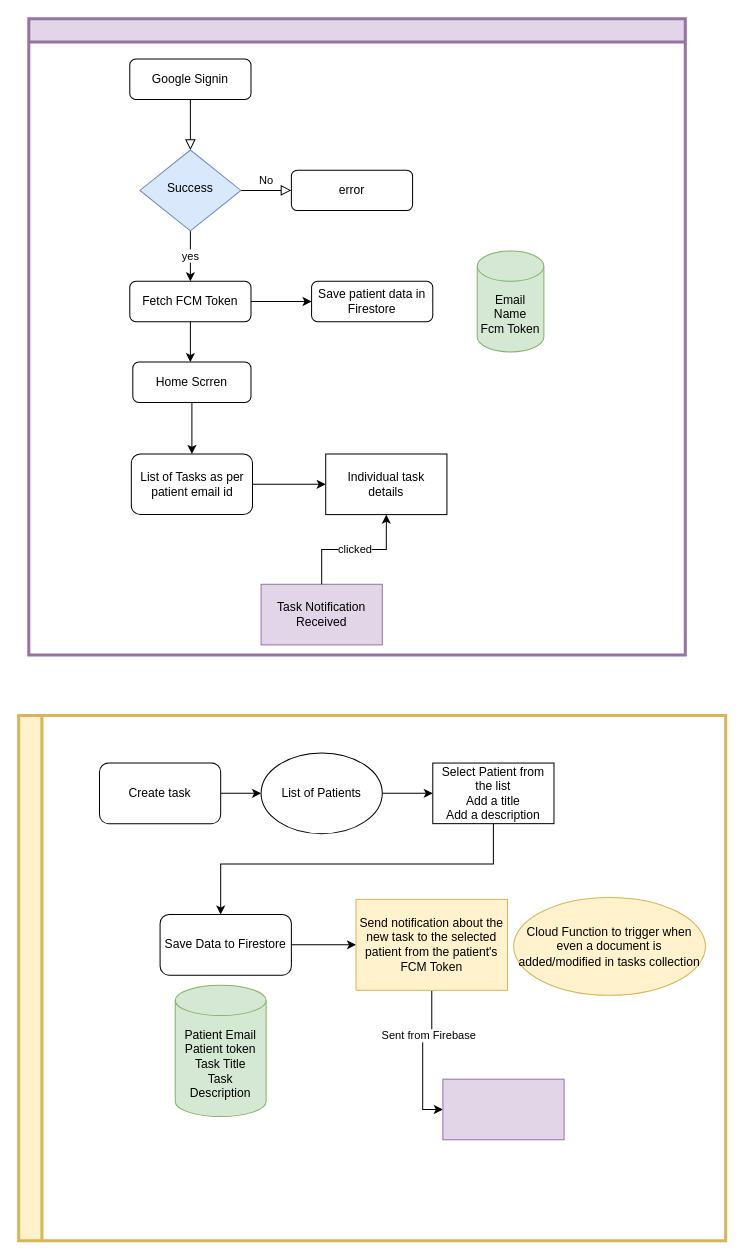
The diagram is 744 pixels wide and 1259 high, and some of its shapes have lost their labels. Here are the shapes that lost their labels. From the top down, the box of each, then its label:
(27, 17, 686, 656): Patient App
(17, 714, 727, 1242): Doctors Application/ Website
(442, 1078, 564, 1140): Task notification sent to respective patient's FCM token(s)
